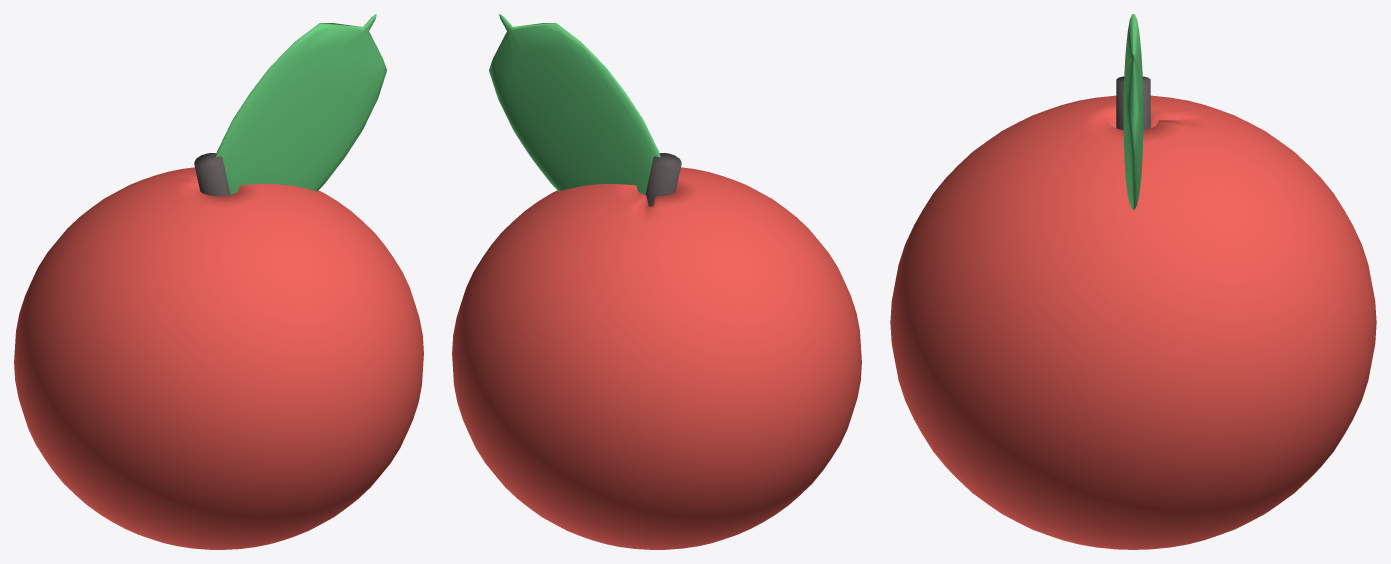
File: elma.glb
3 views of the same model, side by side, from view 1: azimuth 30°, elevation 25°; view 2: azimuth 150°, elevation 25°; view 3: azimuth 270°, elevation 25° (orthographic). The views are drawn at different scales.
Visible parts, largest first — view 1: Elma; view 2: Elma; view 3: Elma.
Boxes of the visible parts, x1,y1,x2,y2 form: Elma: (14, 14, 423, 549); Elma: (452, 14, 861, 549); Elma: (890, 14, 1376, 549).
Bounding box in the file's own units: 0.7357 × 0.95 × 0.7357.
